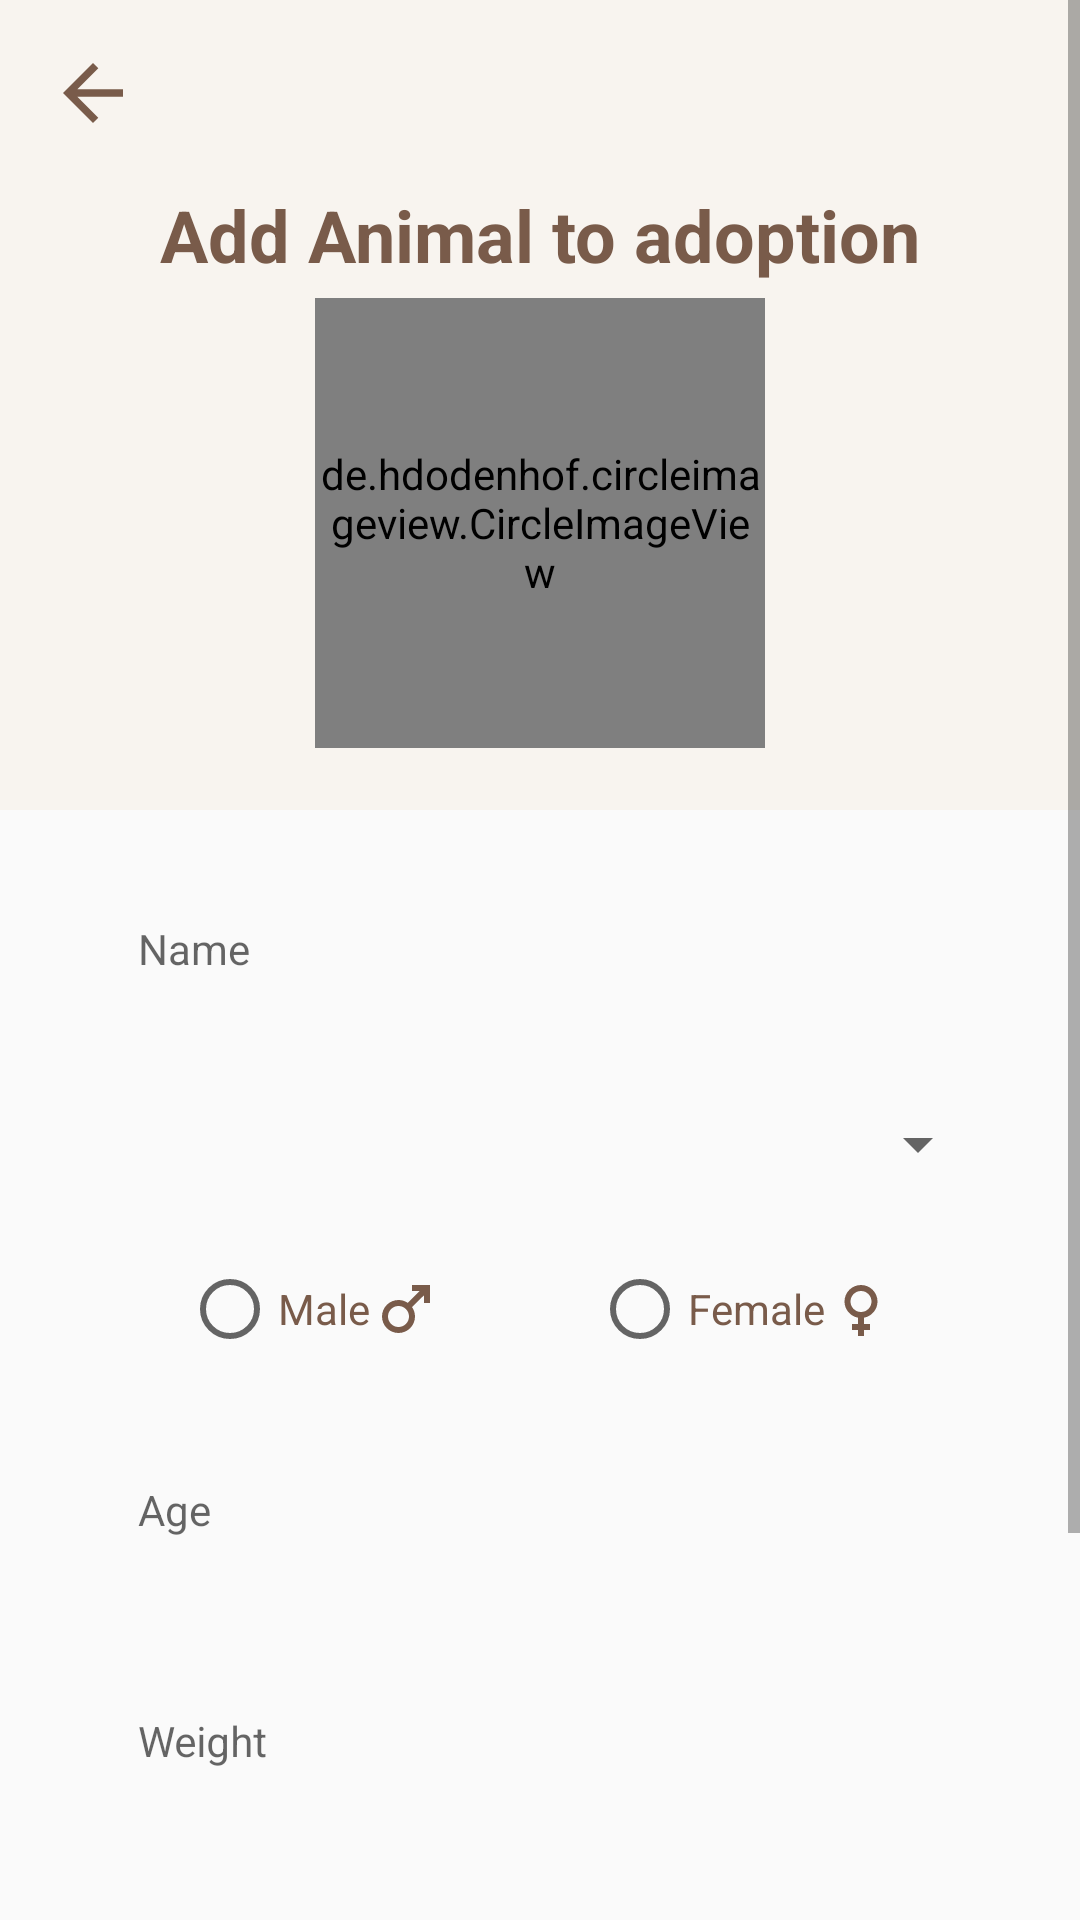

Where to tap for icons on this 1080px×1920px app screen, as point (x, y):
arrow back: point (93, 93)
